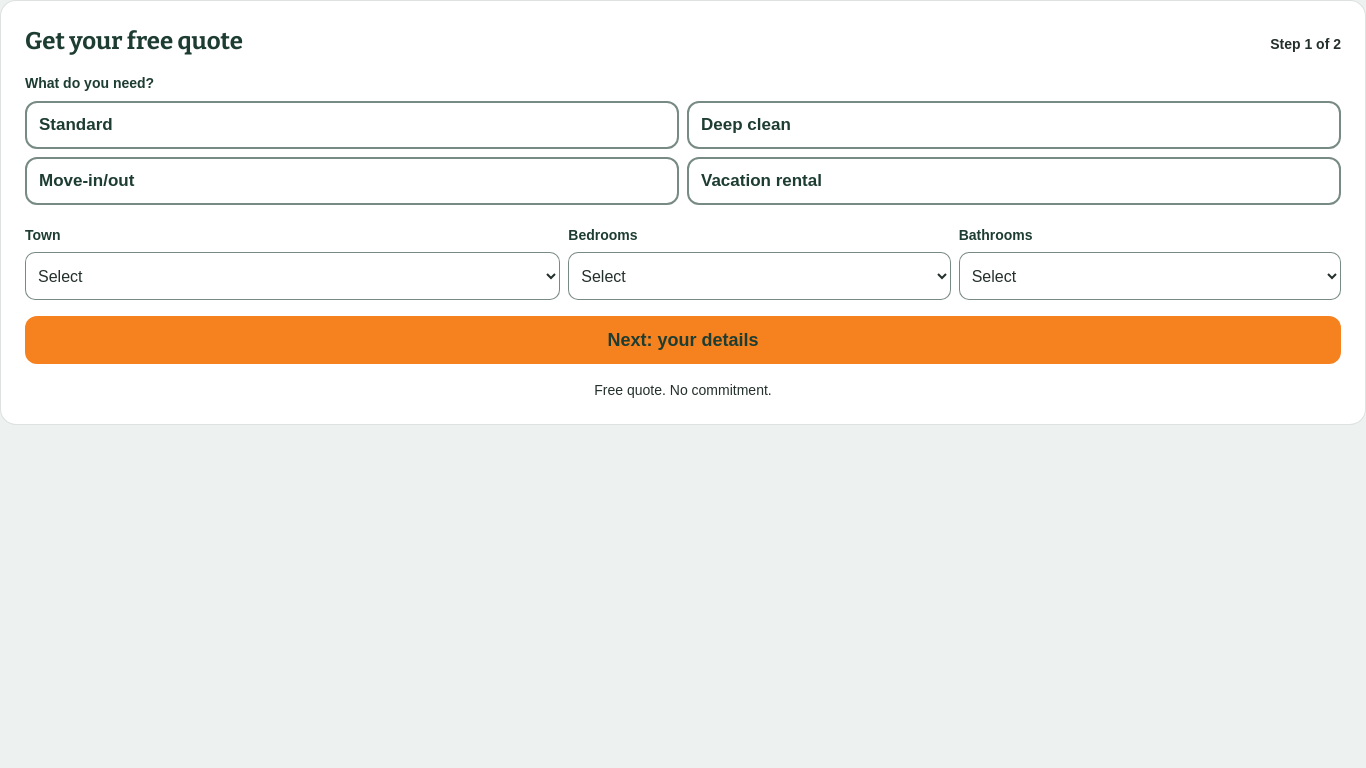
Test case: QuoteForm step 1 › moves to step 2 and focuses the step label once step 1 is complete
The image size is (1366, 768).
Click the radio button labelled "Deep clean".
click(746, 125)  # box [687,101,1341,149]
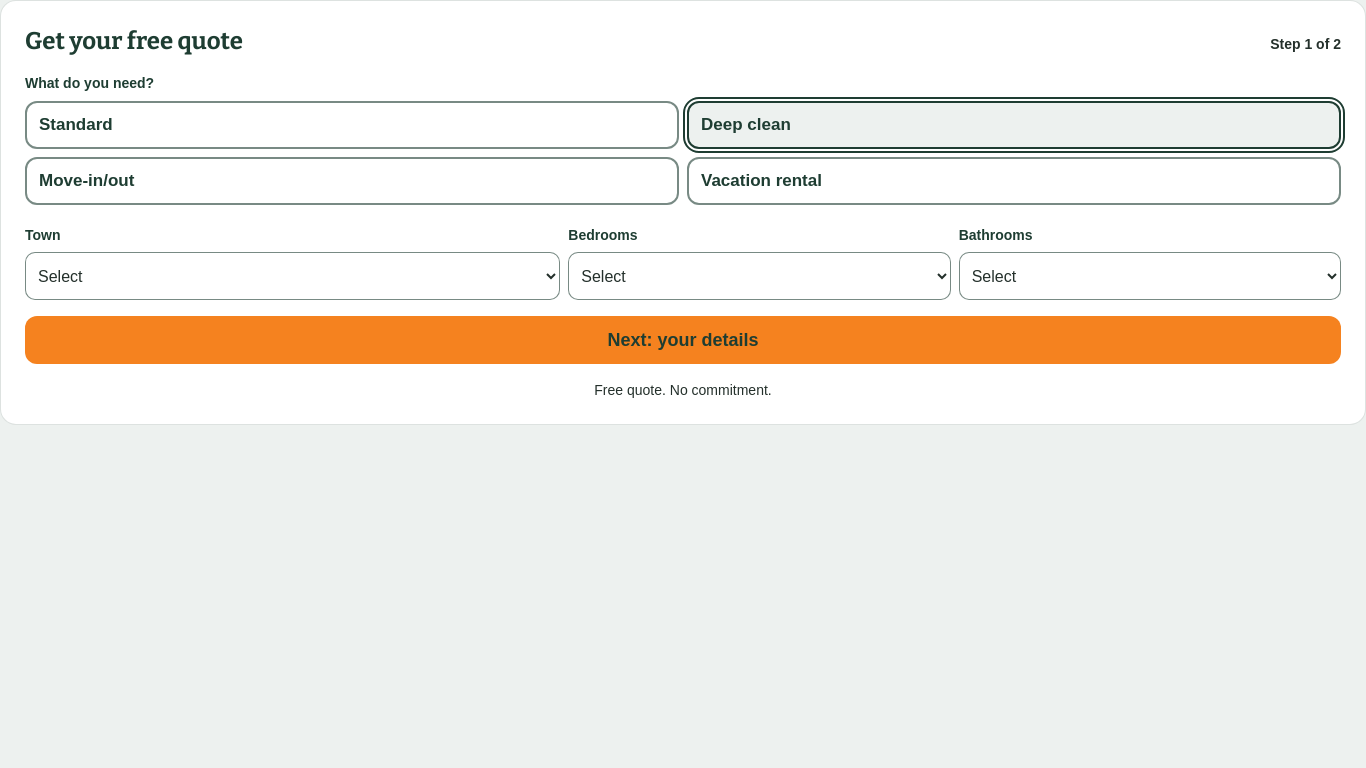
Select "Mill Valley" in the dropdown labelled "Town" at (293, 276), box [25,252,560,300]
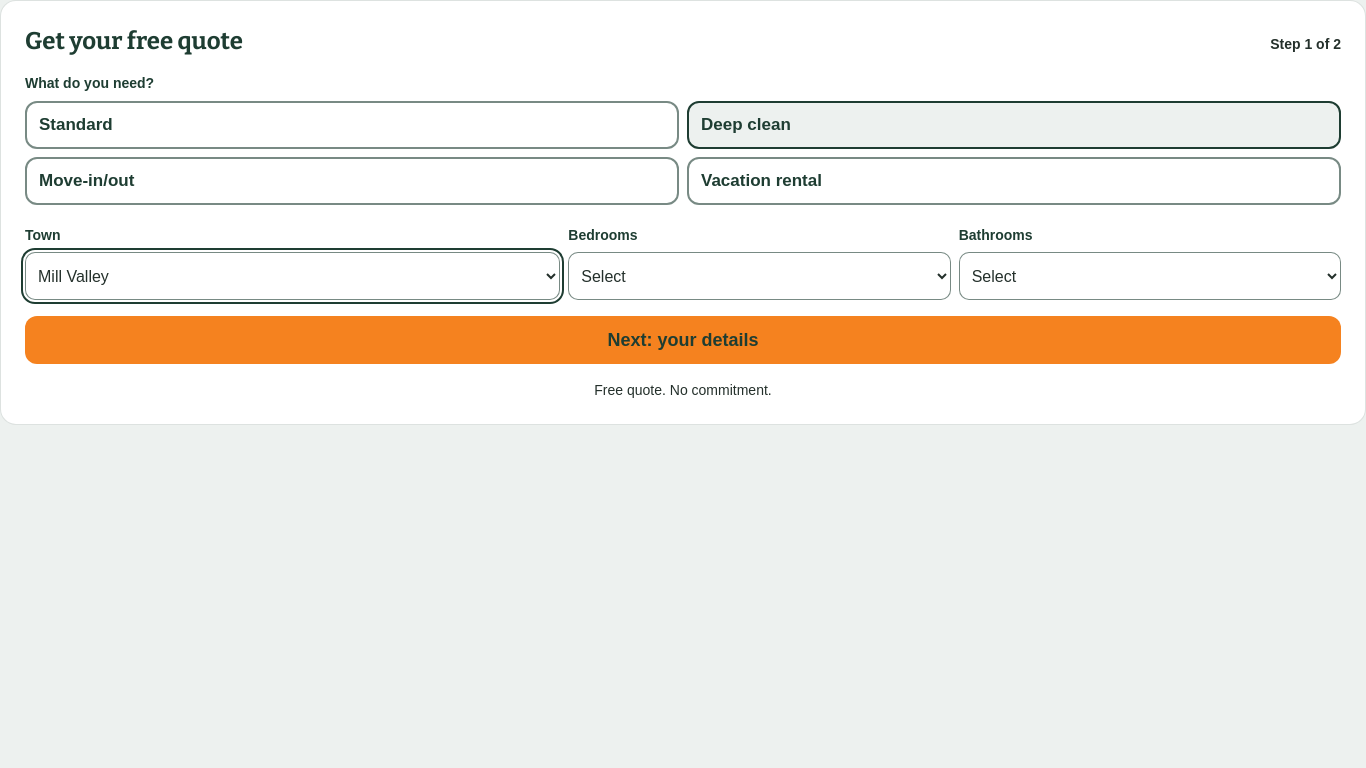
Select "3" in the dropdown labelled "Bedrooms" at (760, 276), box [568,252,951,300]
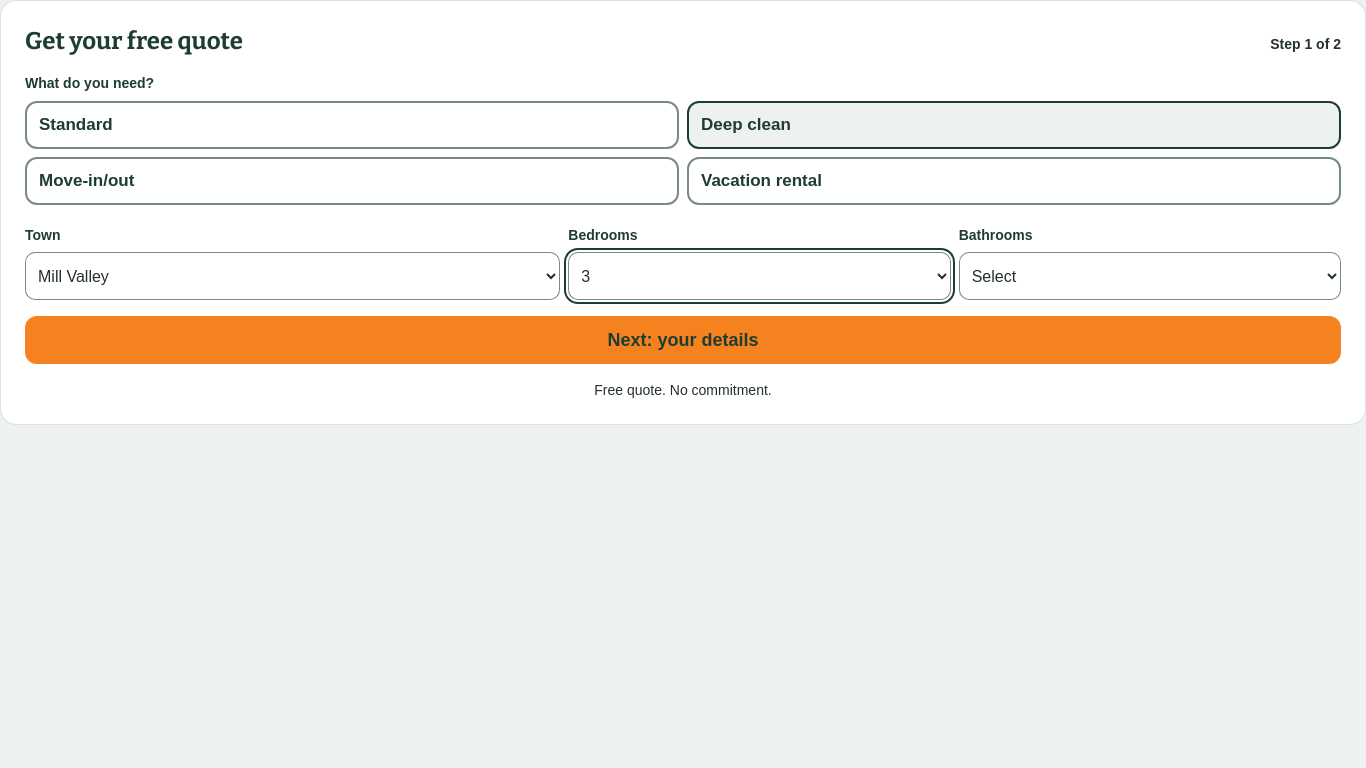
Select "2" in the dropdown labelled "Bathrooms" at (1150, 276), box [959,252,1341,300]
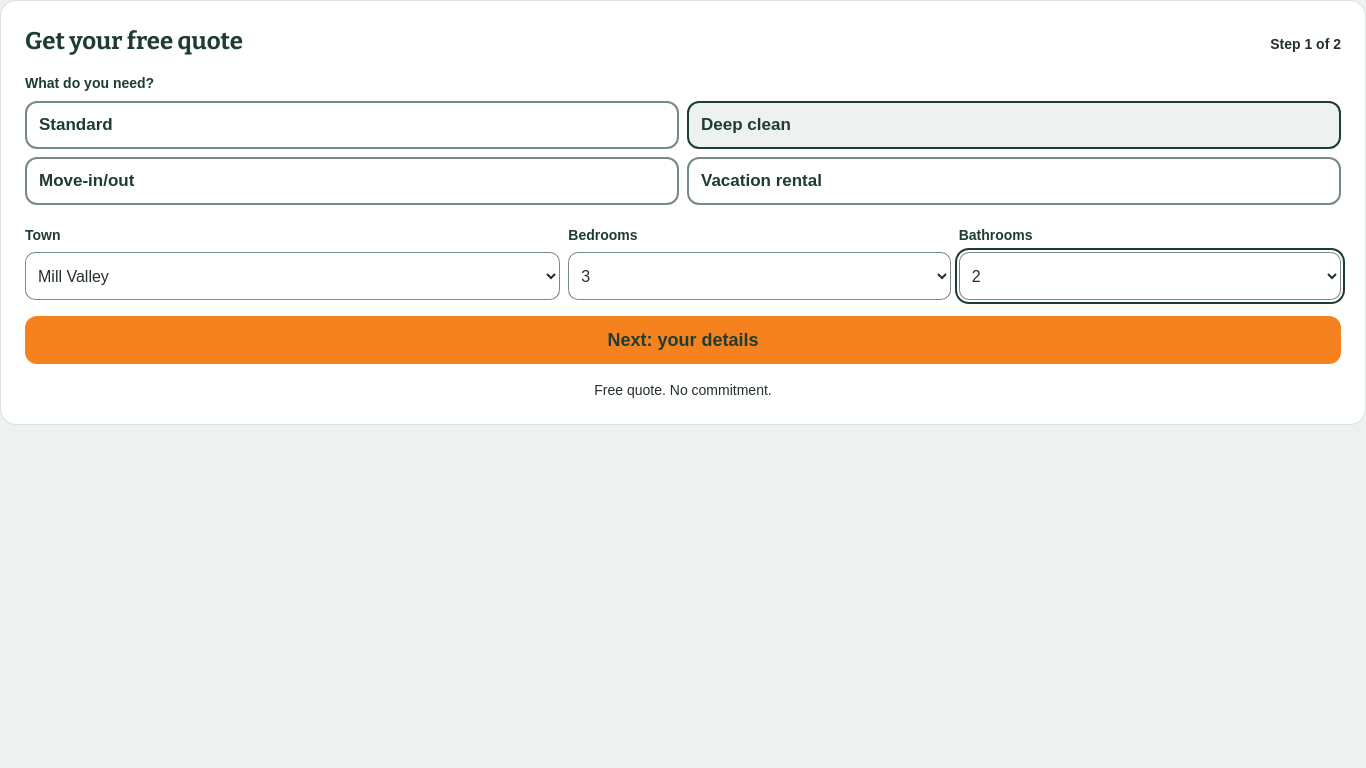
Click the button "Next: your details".
click(683, 340)  # box [25,316,1341,364]
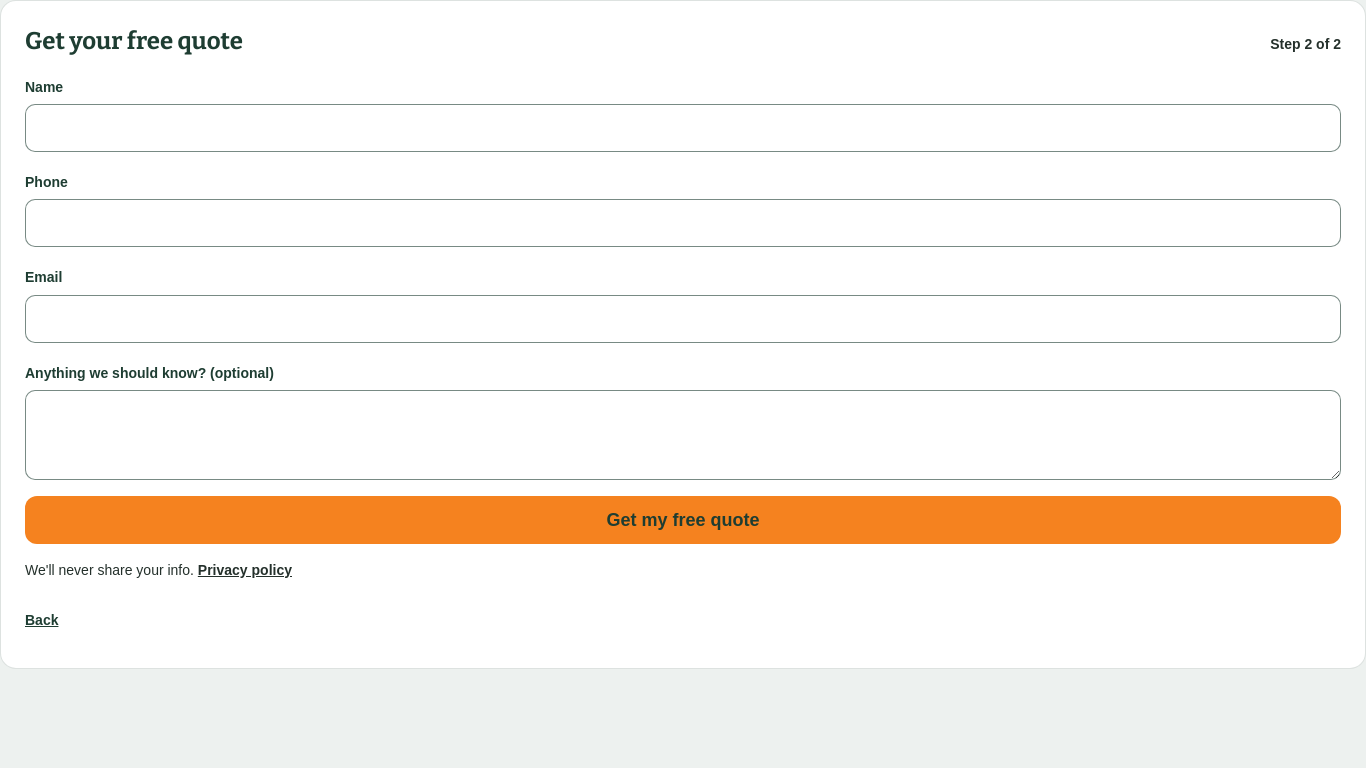
Expected: the field labelled "Name" is shown, [25,104,1341,152]
